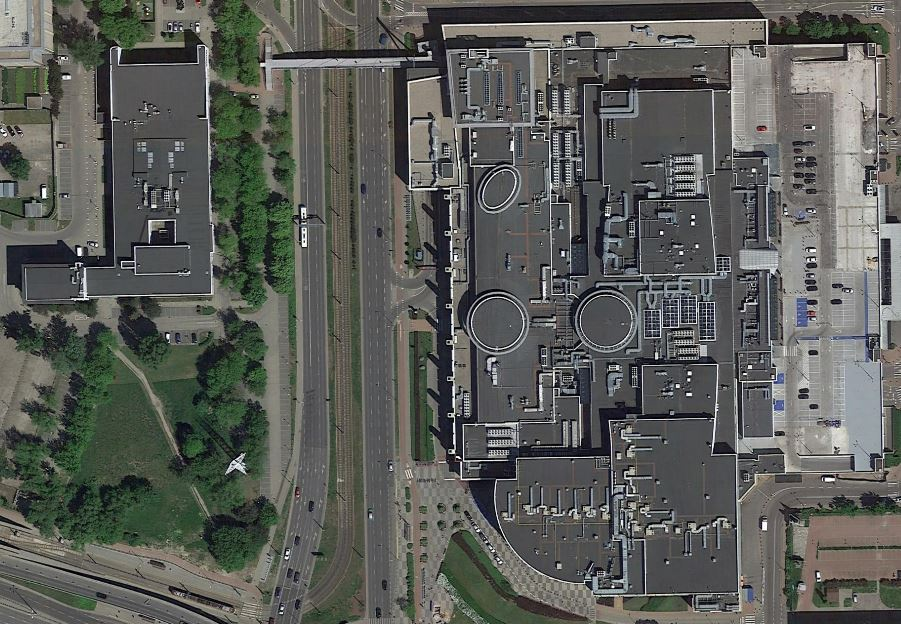shopping_center: (392, 14, 785, 615), (15, 27, 225, 310)
